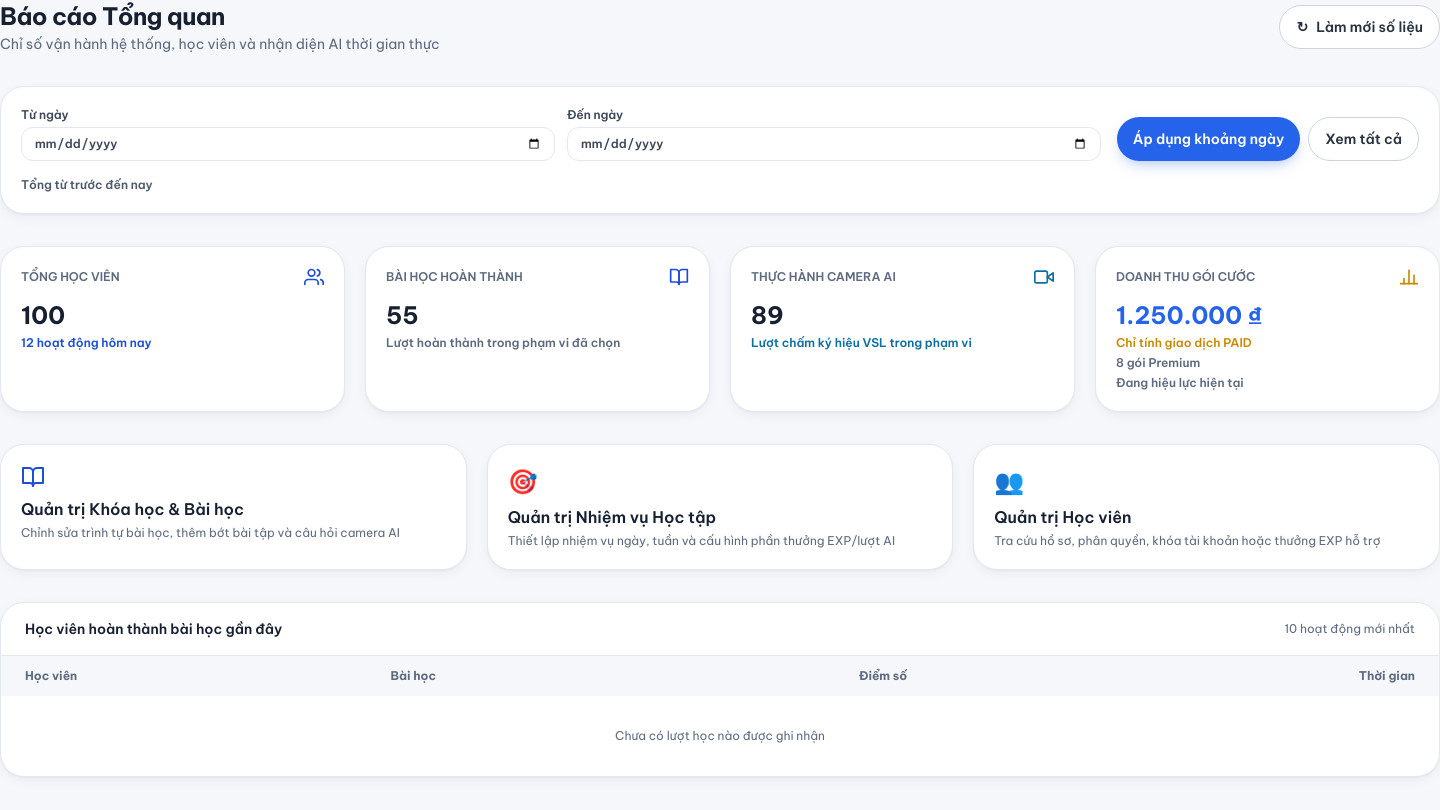
Test: AdminDashboardPage › validates a partial or reversed date range before requesting
The width and height of the screenshot is (1440, 810).
Expected: the text "Tổng từ trước đến nay" is shown, [21, 177, 153, 192]
Type "2026-10-03" into the date field labelled "Từ ngày".
click(288, 144); type("2026-10-03")  # box [21, 127, 555, 161]
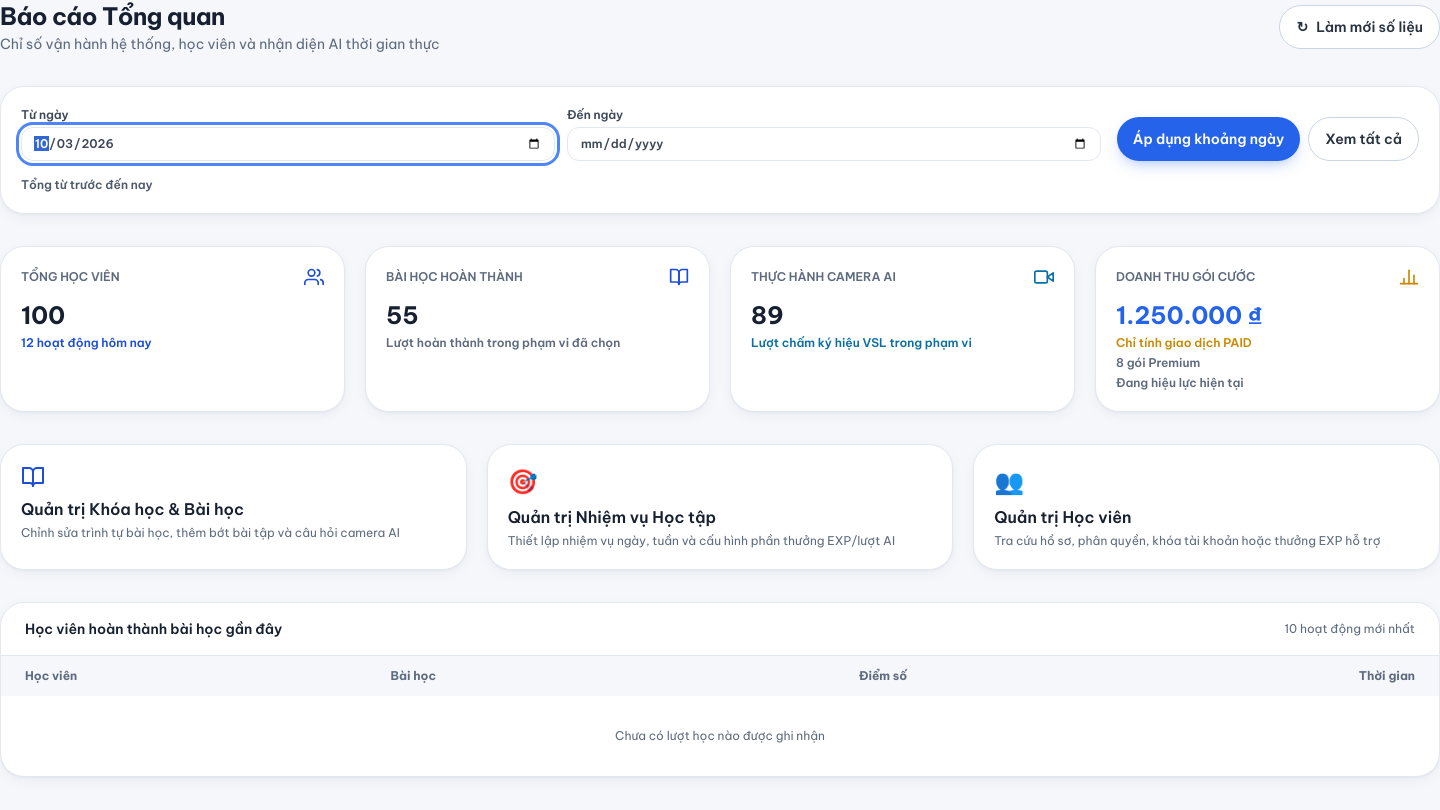
Click the button "Áp dụng khoảng ngày".
click(1208, 139)  # box [1117, 117, 1300, 161]
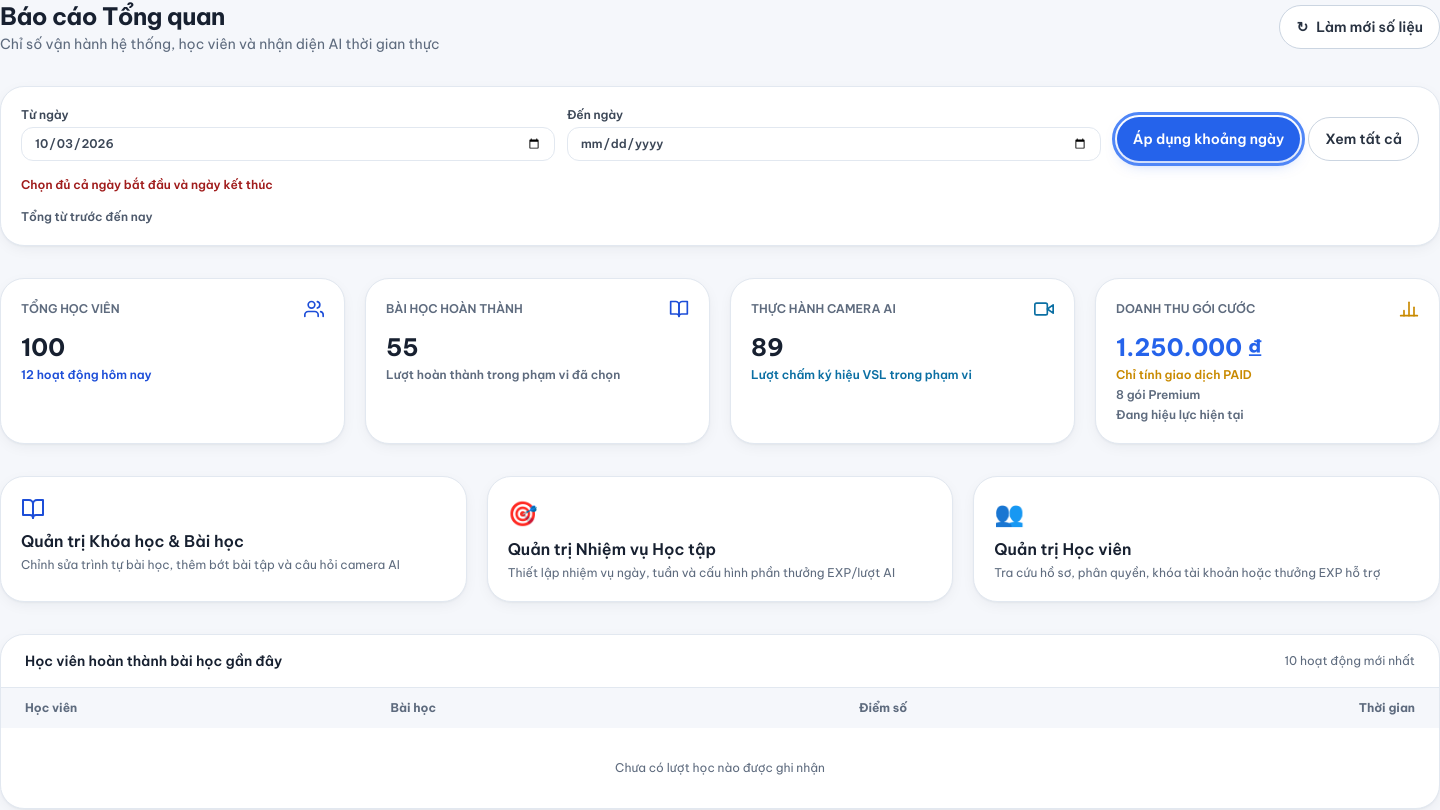
Now the message reads "Chọn đủ cả ngày bắt đầu và ngày kết thúc", box [21, 177, 273, 192]
Type "2026-10-01" into the date field labelled "Đến ngày".
click(834, 144); type("2026-10-01")  # box [567, 127, 1101, 161]
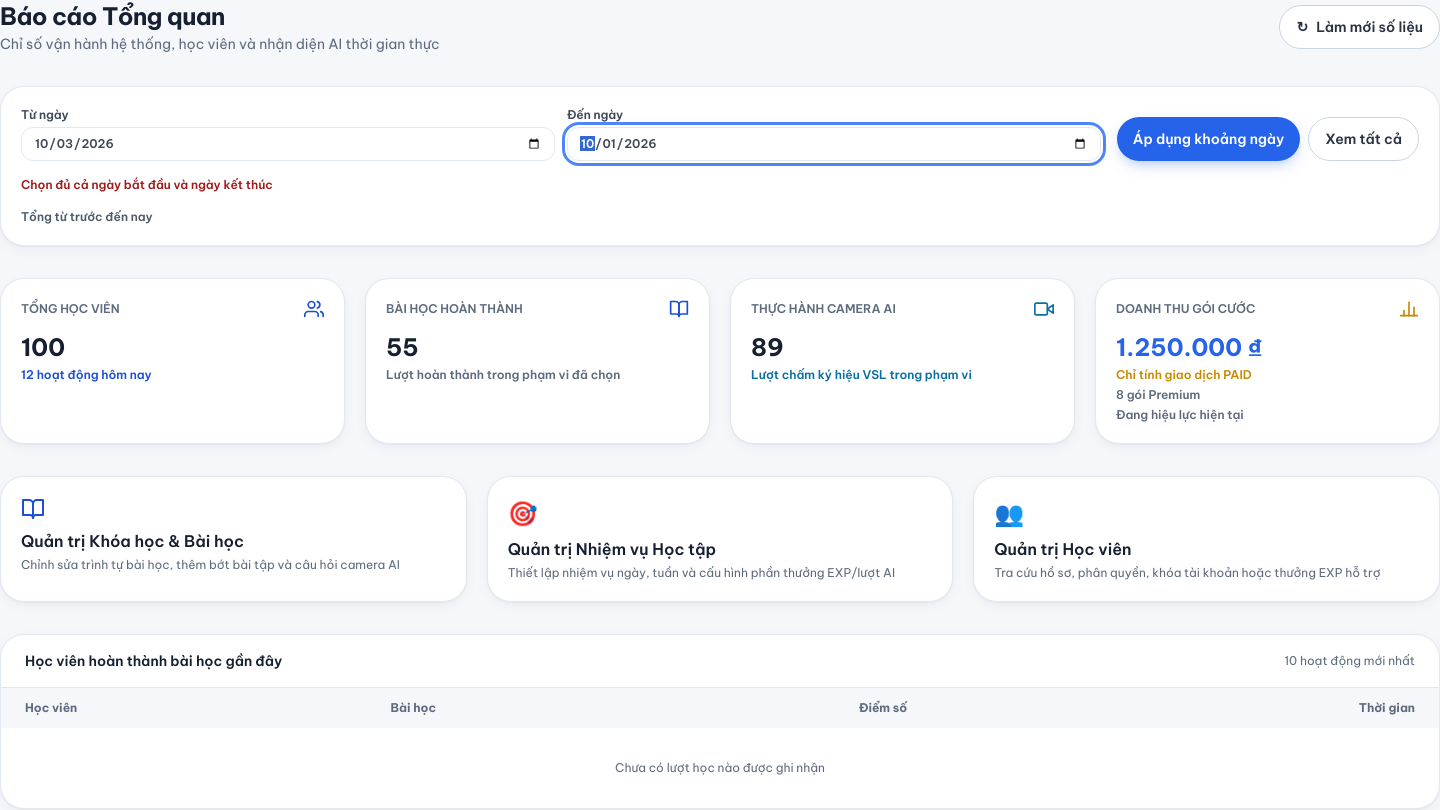
Click the button "Áp dụng khoảng ngày".
click(1208, 139)  # box [1117, 117, 1300, 161]
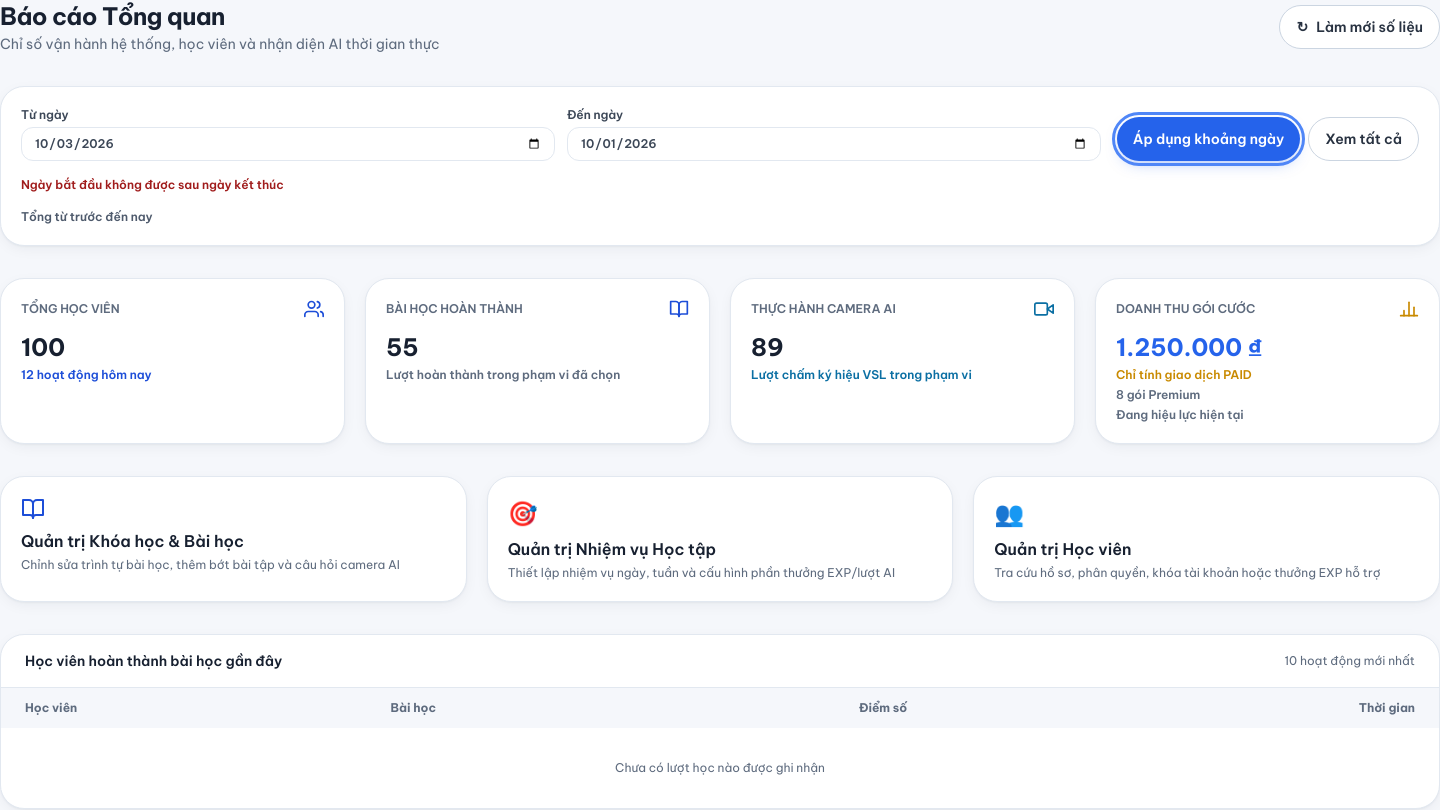
Now the message reads "Ngày bắt đầu không được sau ngày kết thúc", box [21, 177, 284, 192]
